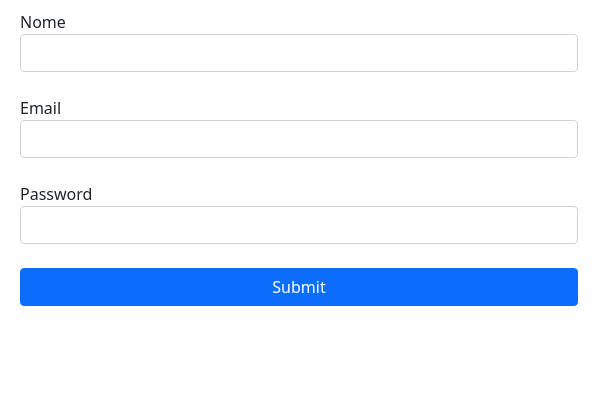
App: Signup Form › Should show error message when email is invalid
Type "test" into the field labelled "Email" at (299, 139), box 20,120 -> 578,158
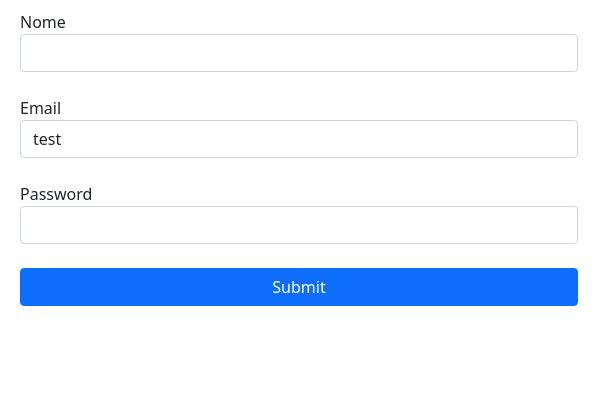
Submit the form from the button "Submit", box 20,268 -> 578,306
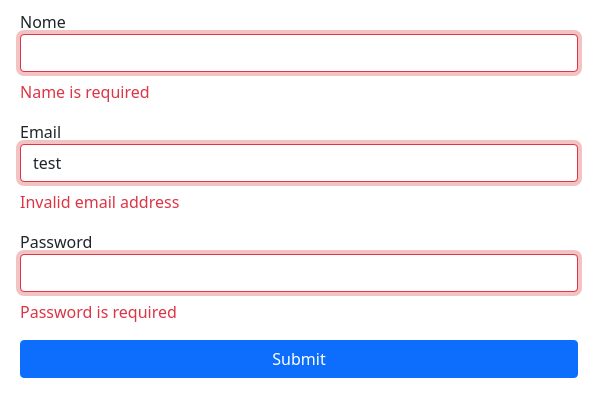
Now the text "Invalid email address" is shown, box 20,191 -> 179,213
